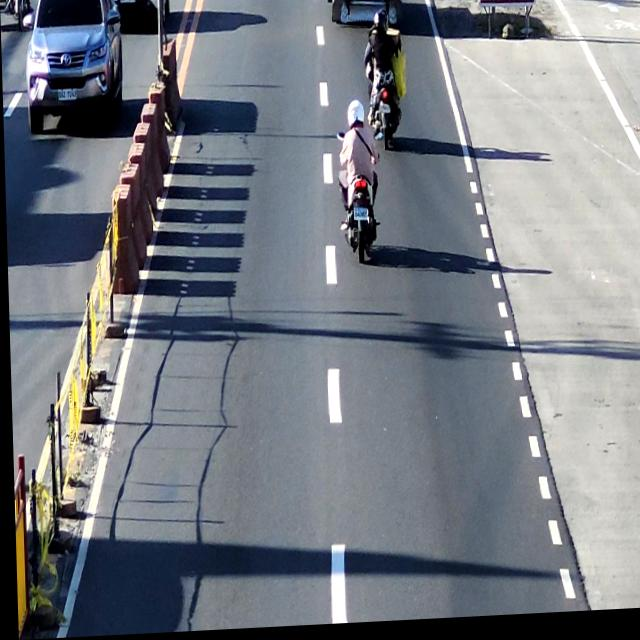Jeep: (325, 0, 403, 24)
License-Plate: (351, 210, 368, 226), (378, 102, 391, 119)
Motorcycle: (339, 107, 380, 264), (366, 14, 401, 155)
